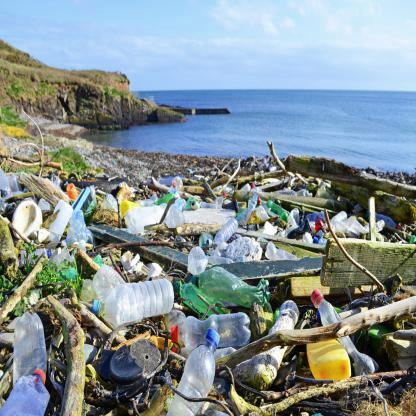Plastic: (309, 287, 382, 376), (173, 328, 225, 415), (87, 273, 175, 324), (184, 268, 273, 314), (258, 299, 302, 384), (170, 306, 250, 344), (11, 312, 48, 389), (0, 369, 57, 415), (303, 336, 353, 383), (67, 205, 93, 249), (215, 213, 241, 250), (185, 242, 210, 272)
